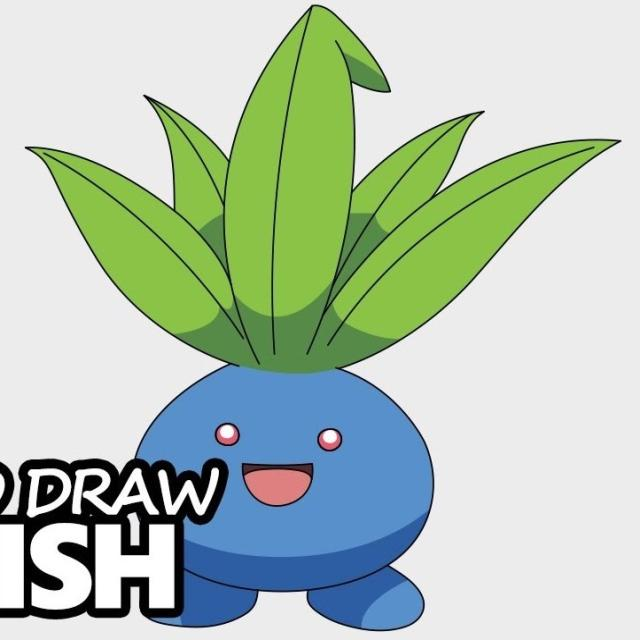Oddish: (126, 175, 442, 629)
